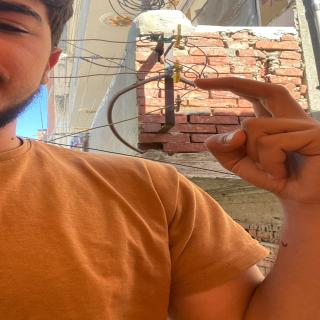ZAY: (169, 58, 320, 194)
